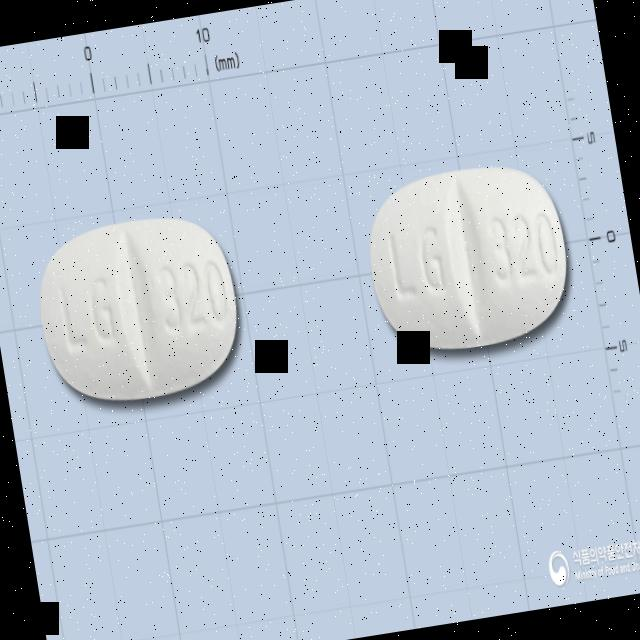Factive: (358, 152, 578, 362), (28, 204, 249, 413)
